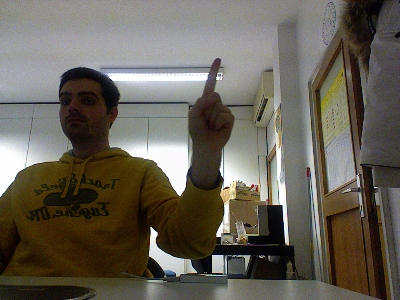食指: (185, 55, 236, 150)
